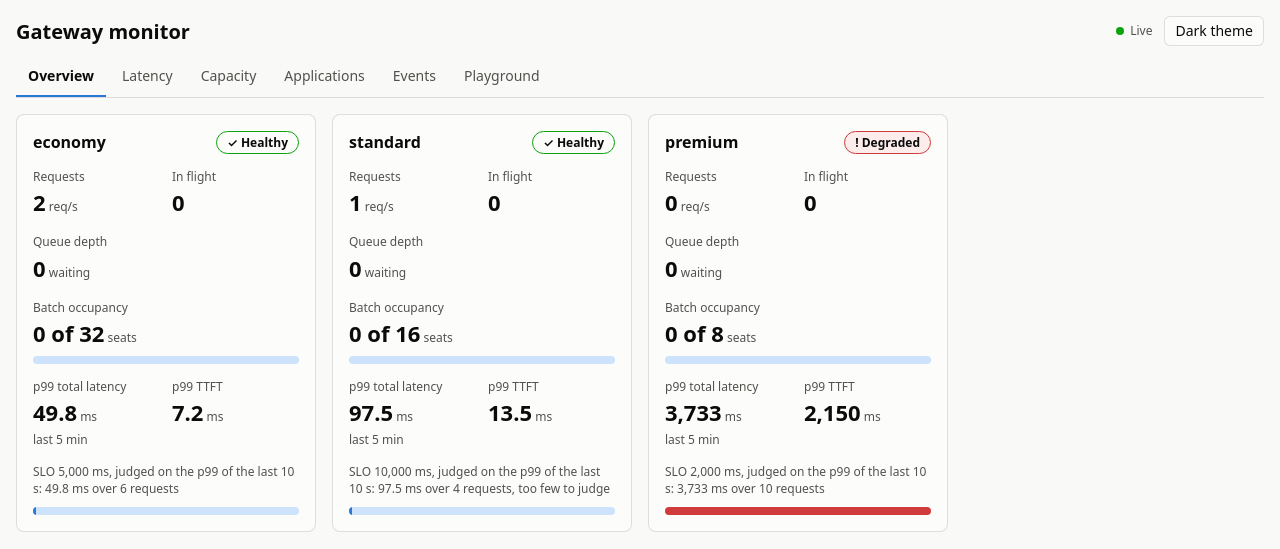
Test: Events tab › lists events newest first, with what happened and when
Click the tab "Events" at (414, 77), box [381,58,448,97]
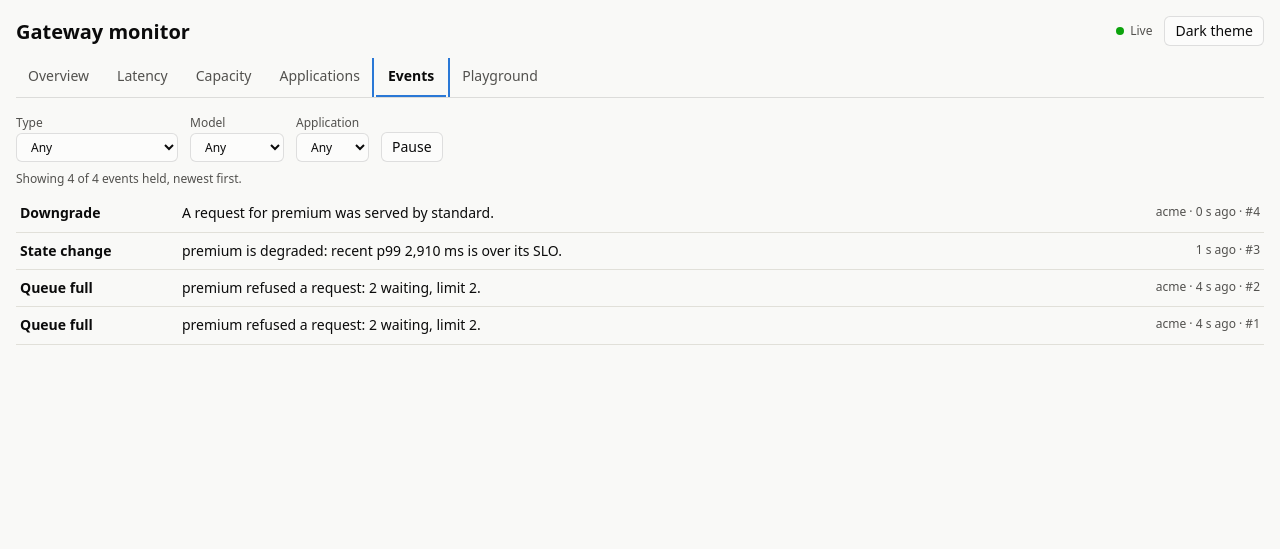
expect the text "Showing 4 of 4 events held, newest first." is shown: met, box [16,170,242,187]
